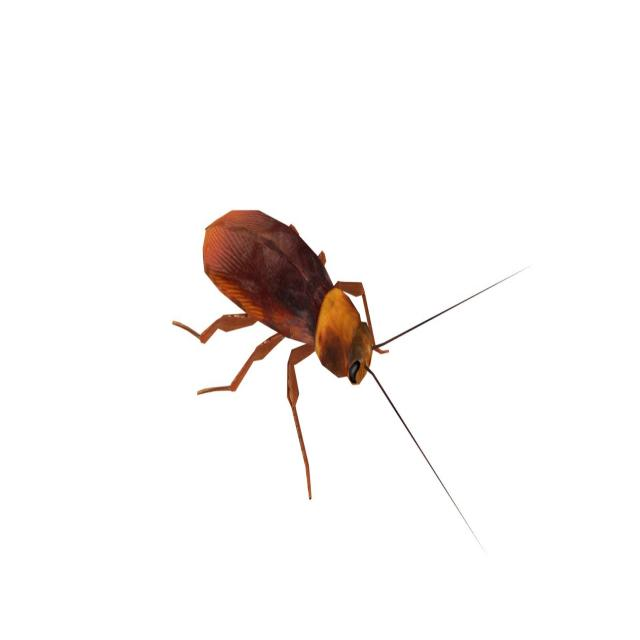Cockroach: (161, 191, 521, 541)
